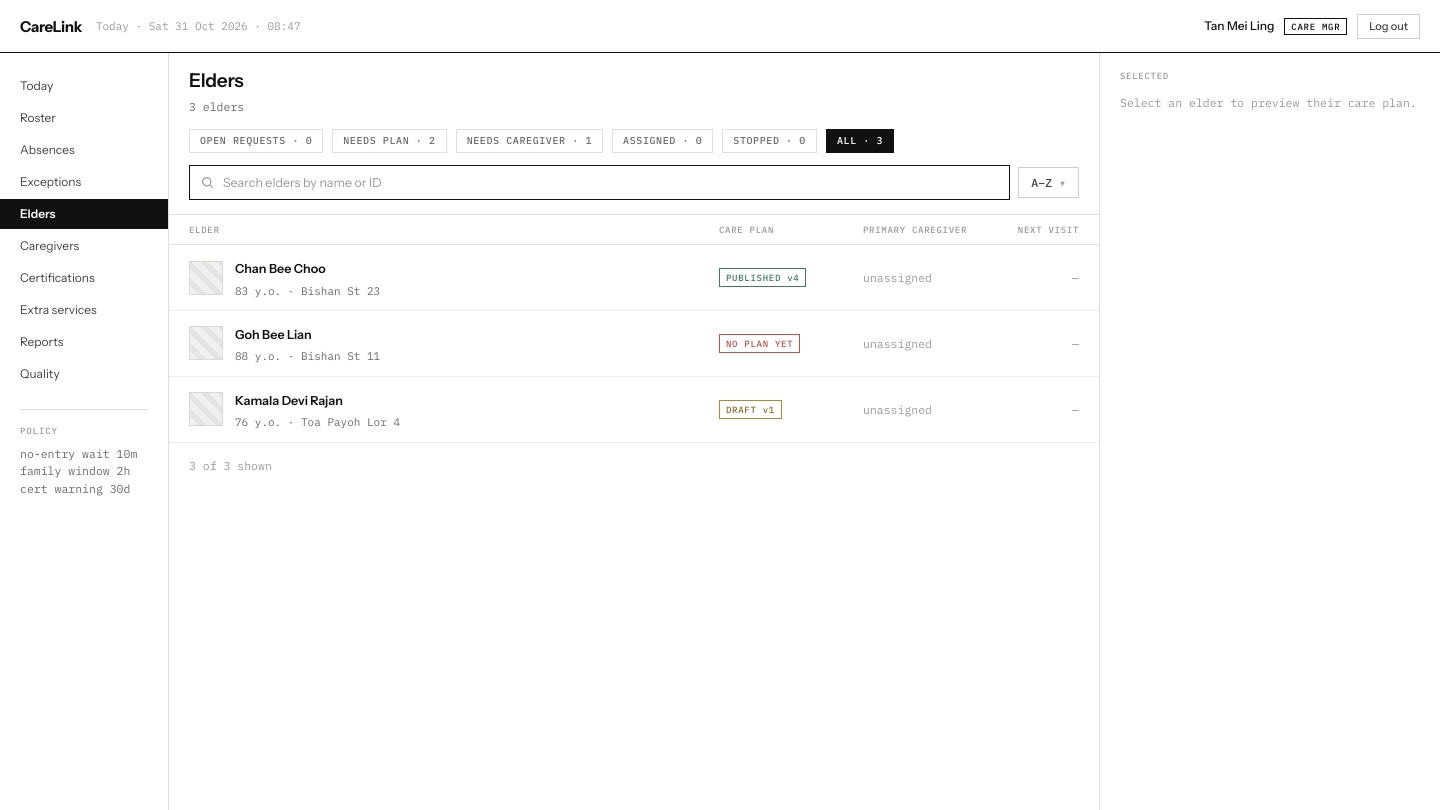
Test: assigns a primary caregiver through the API and shows it from the refreshed elder list
The width and height of the screenshot is (1440, 810).
Step 1. Click the option "Chan Bee Choo" → (206, 278), box [169,245,1099,311]
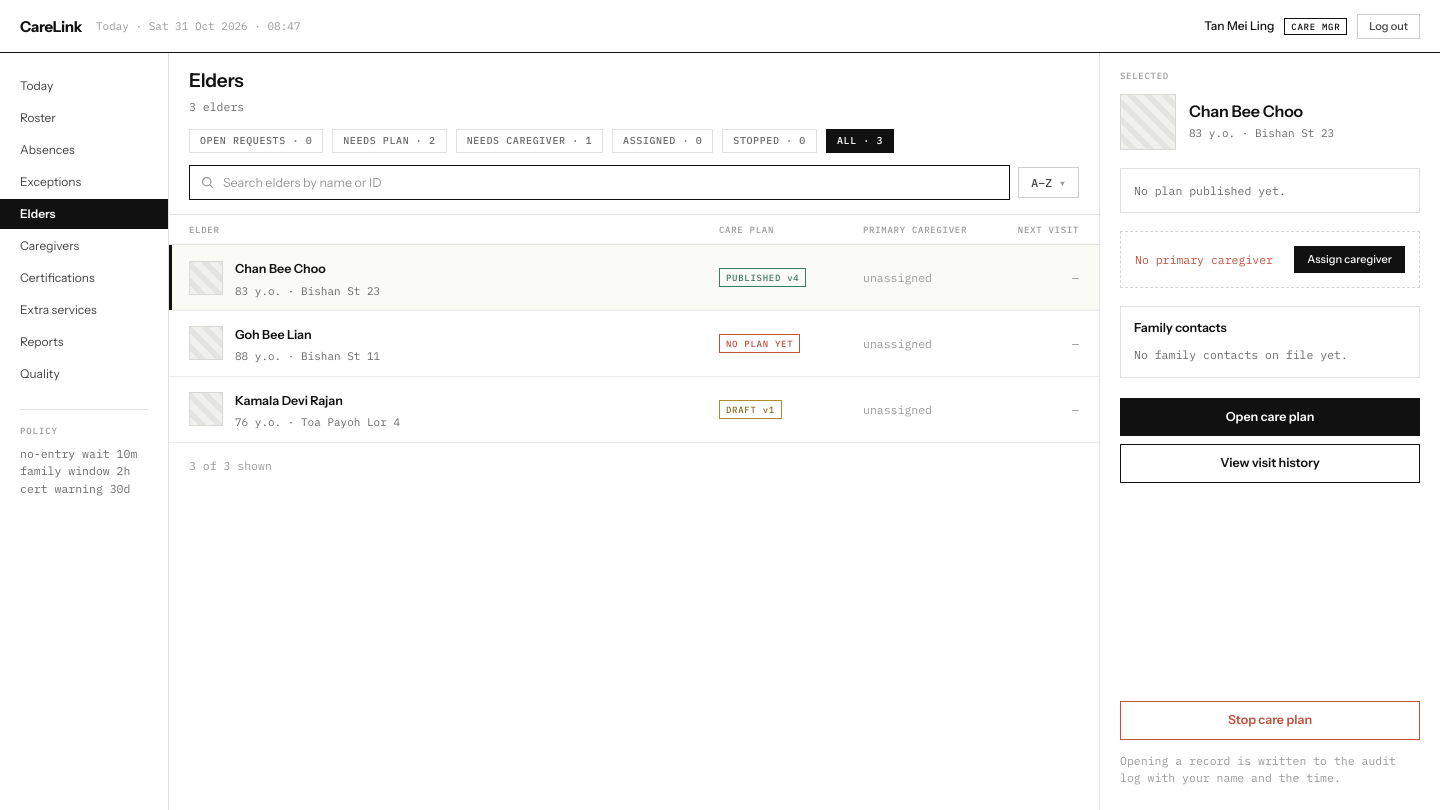
Step 2. Click the button "Assign caregiver" → (1350, 260), box [1294,246,1405,273]
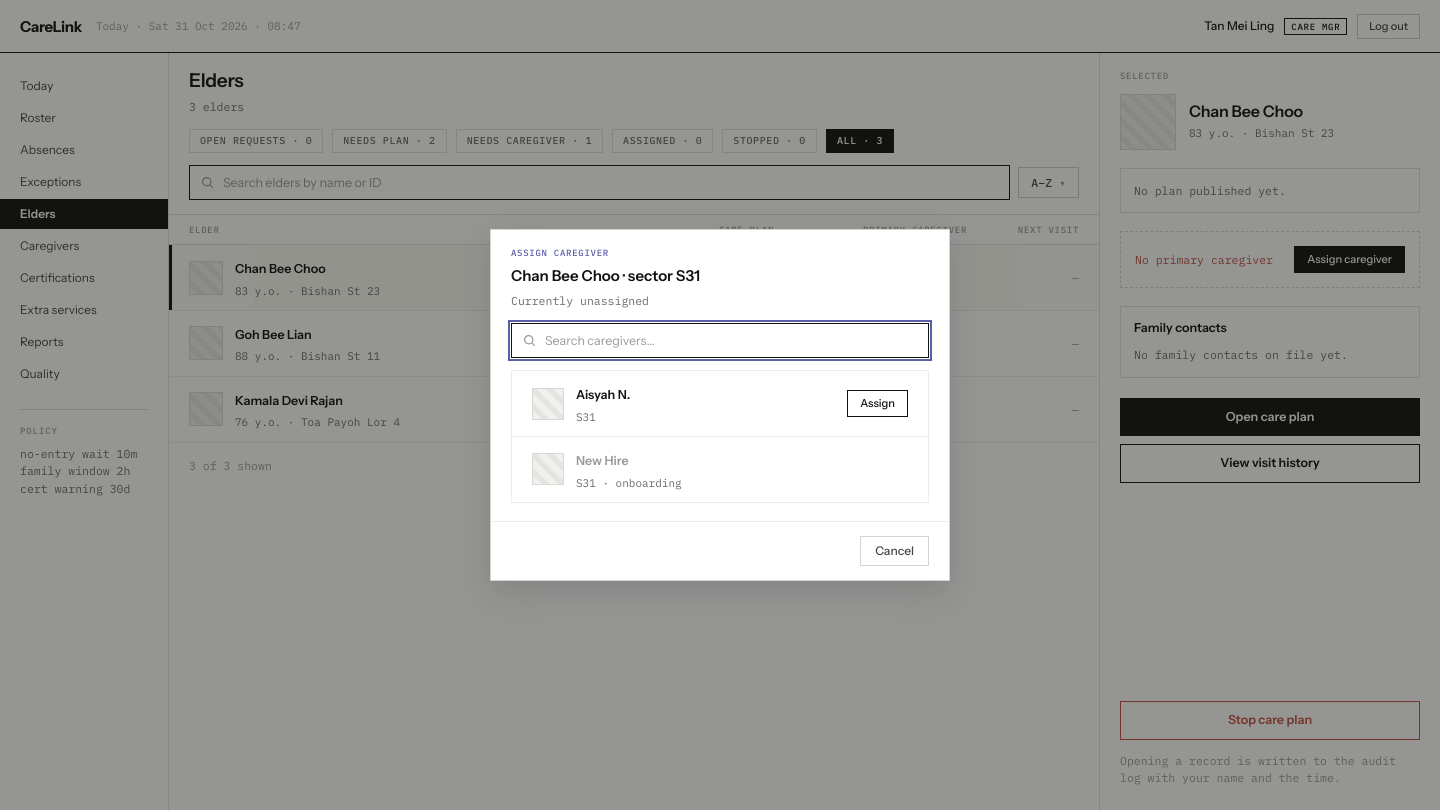
Step 3. Click the button "Assign" → (878, 404), box [847,390,908,417]
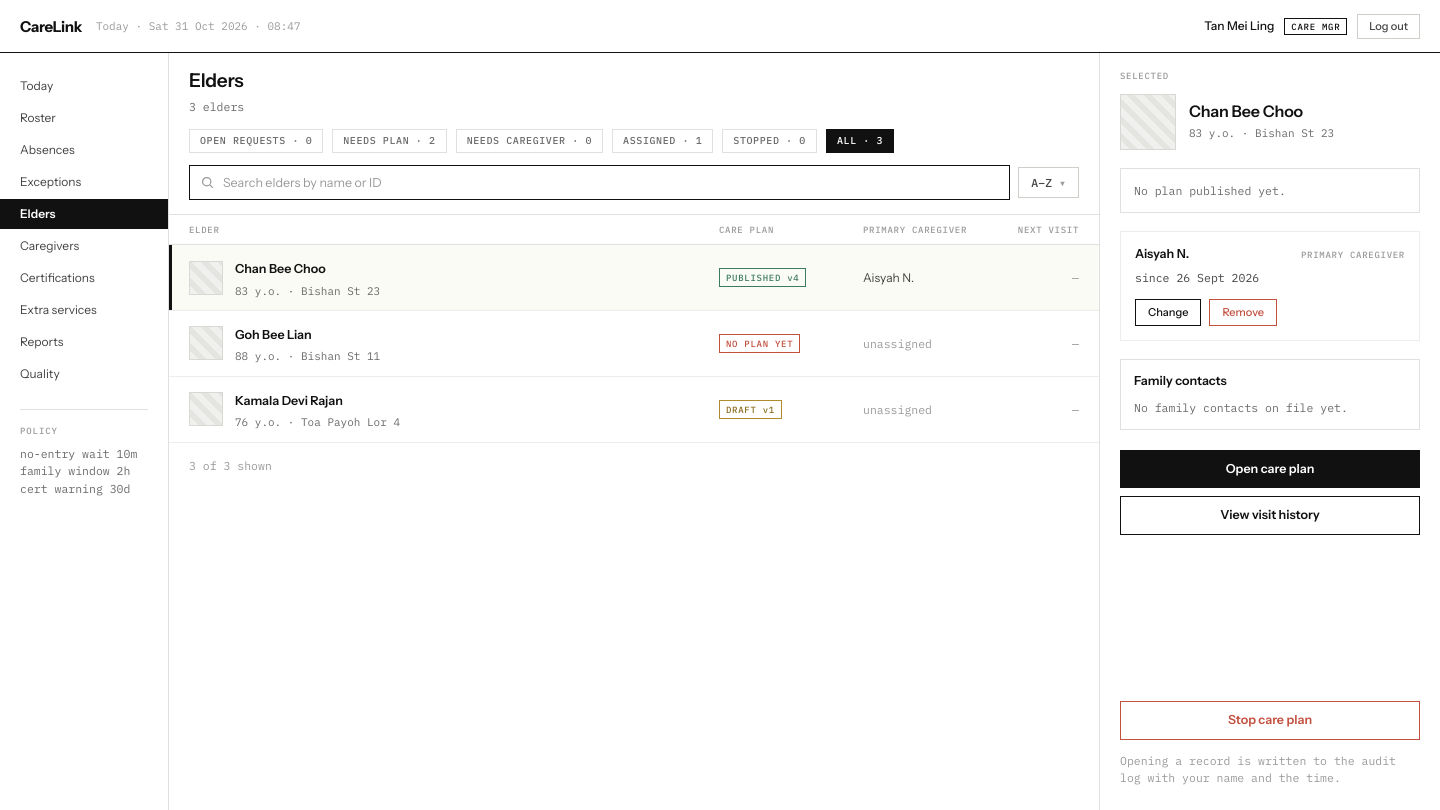
Expected: the text "since 26 Sept 2026" is shown, [1135,270,1259,285]
Expected: the list "Aisyah N. S31 Assign New Hire S31 · onboarding" is gone
